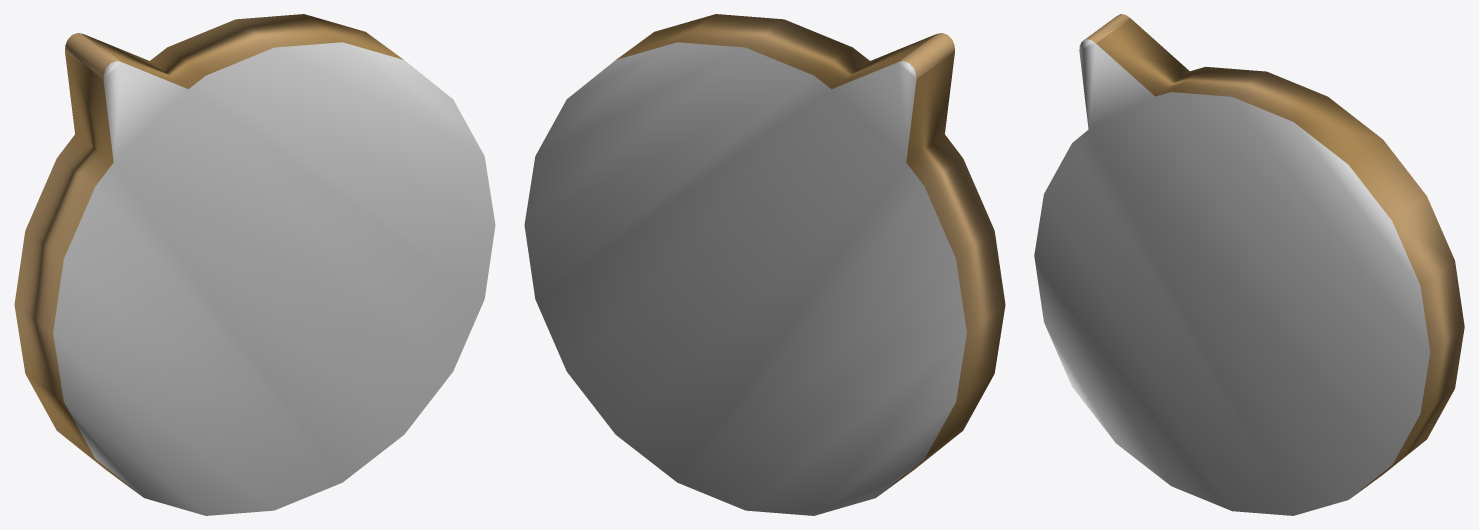
File: PartySuppliesSign_4.glb
3 renders of one model, left to right at view 1: azimuth 30°, elevation 25°; view 2: azimuth 150°, elevation 25°; view 3: azimuth 330°, elevation 25°, orthographic. The views are drawn at different scales.
Visible parts, largest first — view 1: PartySuppliesSign; view 2: PartySuppliesSign; view 3: PartySuppliesSign.
Boxes of the visible parts, left/top/right/bottom form: PartySuppliesSign: left=14, top=14, right=495, bottom=515; PartySuppliesSign: left=524, top=14, right=1005, bottom=515; PartySuppliesSign: left=1034, top=14, right=1464, bottom=515.
Bounding box in the file's own units: 0.861 × 0.9075 × 0.1301.
